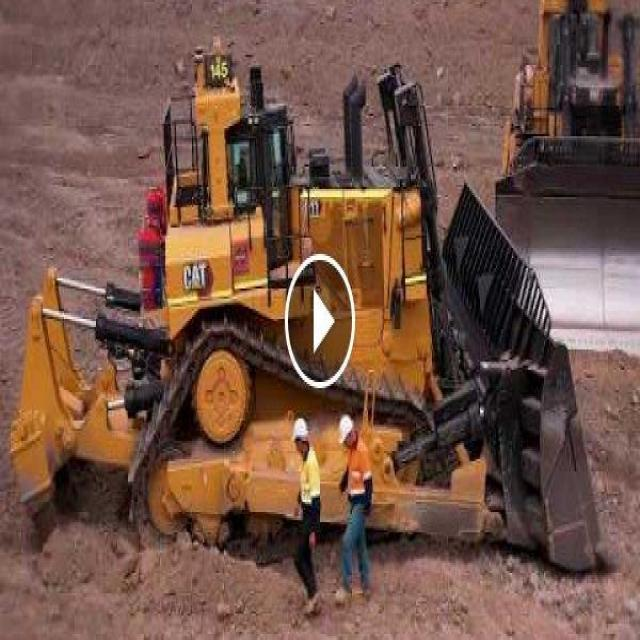Bulldozer: (11, 32, 618, 606)
